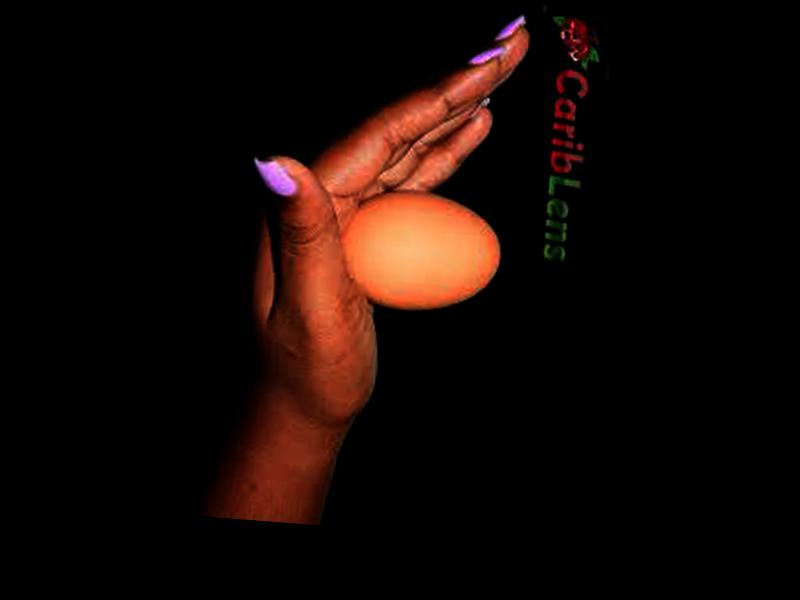Eggs: (339, 185, 506, 317)
